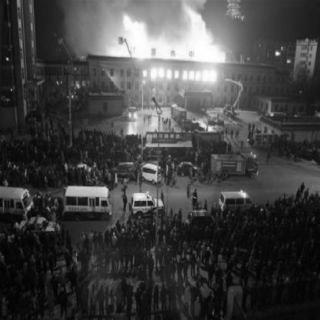Fire: (103, 12, 224, 86)
